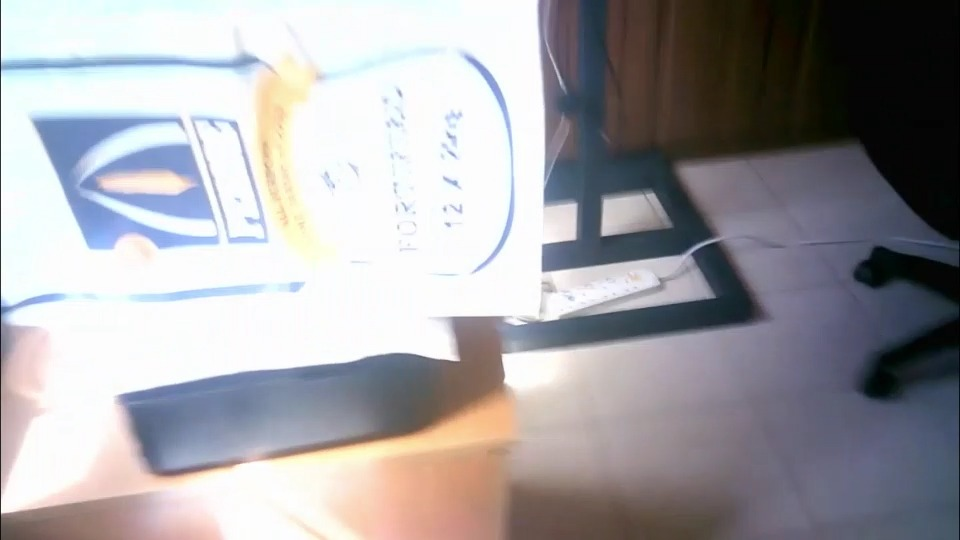wheat_flour_blue_label: (0, 0, 539, 320)
